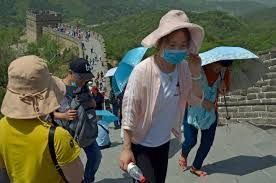with-mask: (160, 28, 196, 70)
